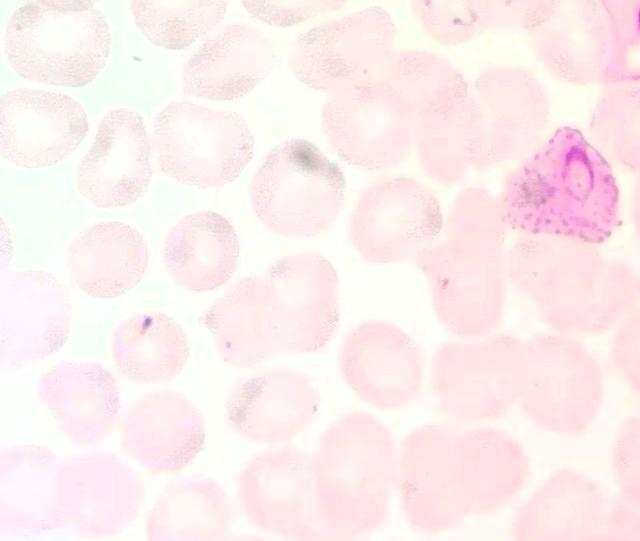Infected: (500, 123, 624, 245)
Uninfected: (209, 257, 339, 363), (399, 422, 525, 529), (307, 416, 401, 533), (513, 237, 626, 332), (291, 7, 402, 91), (152, 99, 255, 189), (249, 140, 345, 235), (509, 335, 601, 433), (5, 3, 108, 88), (465, 66, 549, 168), (236, 448, 331, 537), (320, 83, 414, 170), (349, 178, 444, 264), (431, 336, 526, 422), (48, 451, 141, 536), (179, 23, 277, 101), (423, 245, 506, 337), (75, 111, 154, 207), (340, 321, 424, 409), (0, 89, 87, 170), (39, 359, 120, 446), (512, 468, 611, 538), (227, 369, 319, 444), (122, 389, 207, 470), (531, 2, 613, 85), (66, 219, 148, 300), (377, 53, 466, 123), (164, 211, 240, 292), (413, 98, 485, 180), (111, 312, 188, 384), (145, 477, 232, 538), (443, 184, 504, 253)
